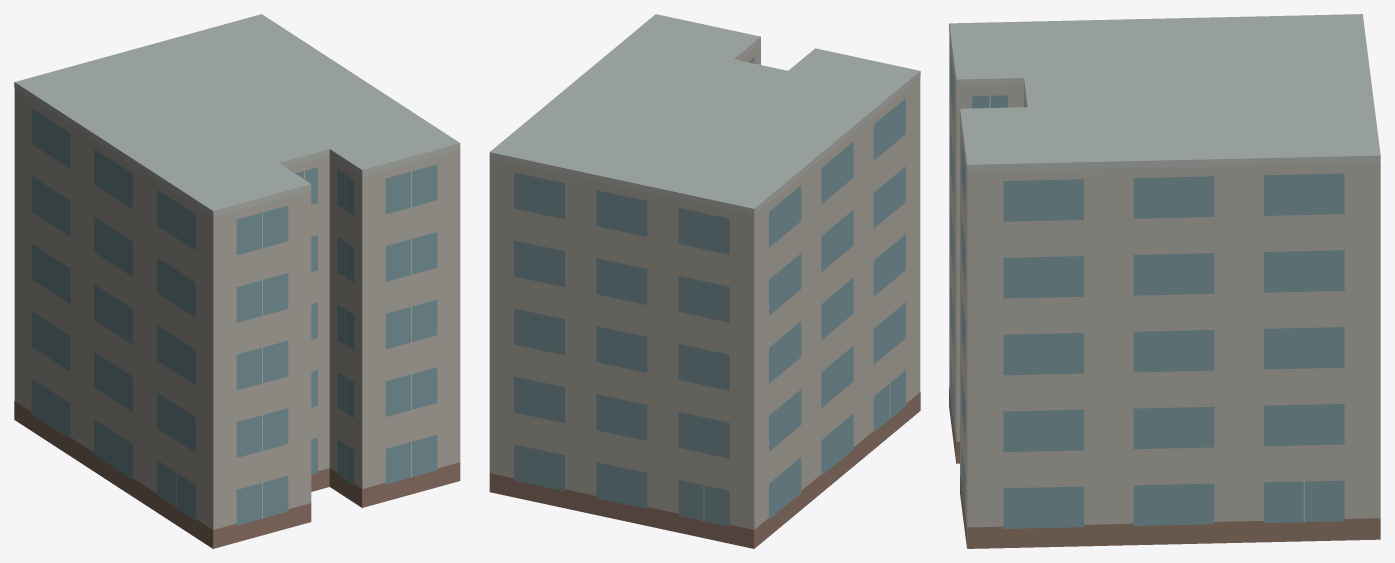
The model's file is survey-upis-32748067.glb.
3 views of the same model, side by side, from view 1: azimuth 30°, elevation 25°; view 2: azimuth 150°, elevation 25°; view 3: azimuth 270°, elevation 25° (orthographic). The views are drawn at different scales.
Visible parts, largest first — view 1: survey-upis-32748067.tmp; view 2: survey-upis-32748067.tmp; view 3: survey-upis-32748067.tmp.
Part boxes in pixels (x1,y1,x2,y2): survey-upis-32748067.tmp: [14, 14, 460, 548]; survey-upis-32748067.tmp: [489, 14, 920, 548]; survey-upis-32748067.tmp: [949, 14, 1380, 548].
Size of the model in its own units: 11.13 by 13.2 by 13.45.
